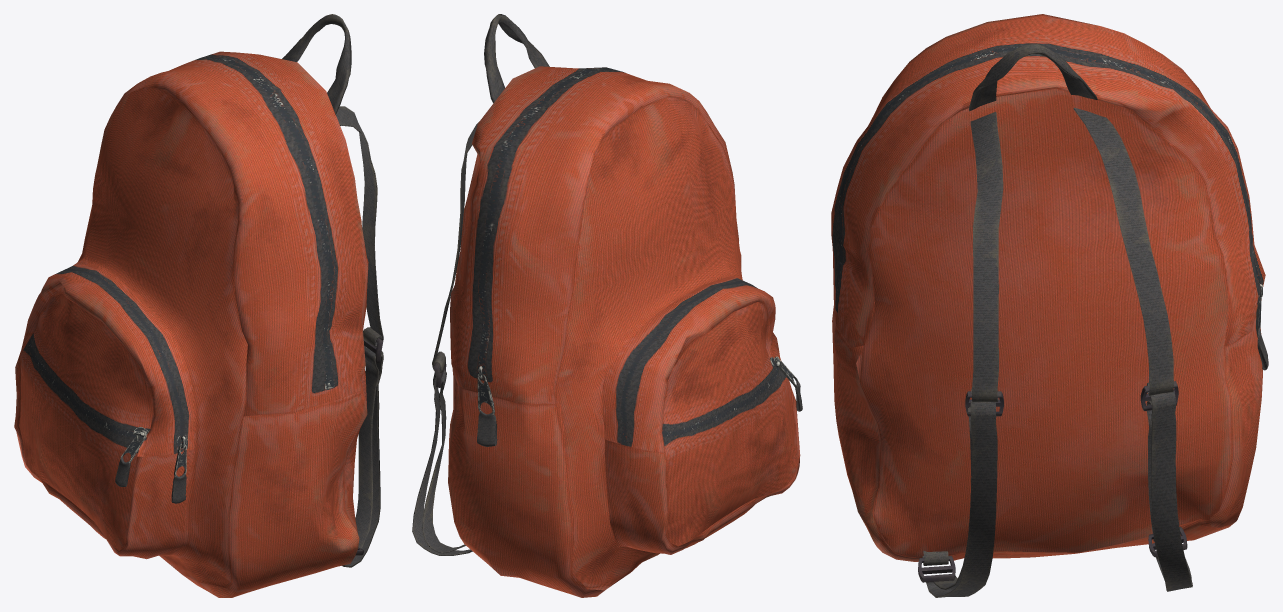
Rendered from SM_Bookbag_01a.dae.
The picture shows the model from 3 angles, left to right: view 1: azimuth 30°, elevation 25°; view 2: azimuth 150°, elevation 25°; view 3: azimuth 270°, elevation 25°; orthographic projection. The views are drawn at different scales.
Parts seen in each view (by area): view 1: SM_Bookbag_01a; view 2: SM_Bookbag_01a; view 3: SM_Bookbag_01a.
Part boxes in pixels (box(x1,y1,x2,y2)): SM_Bookbag_01a: box(14, 14, 383, 597); SM_Bookbag_01a: box(412, 14, 802, 597); SM_Bookbag_01a: box(831, 14, 1268, 597).
Size of the model in its own units: 0.1479 by 0.177 by 0.2523.
Materials: 1 (1 with a texture image).
